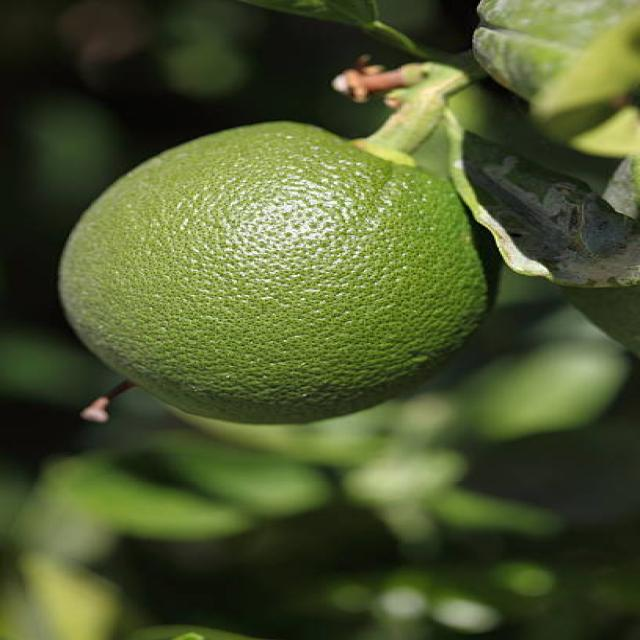Unripe: (59, 117, 495, 427)
